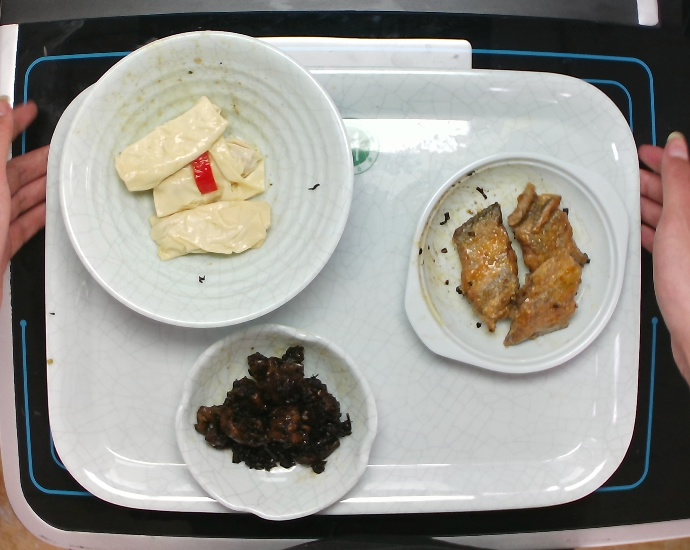JYsf-Ao_Yuan_Wan: (172, 317, 383, 525)
JYsf-Shuang_Er_Pan: (399, 144, 629, 379)
JYsf-Xiao_Tang_Wan: (55, 29, 362, 341)
